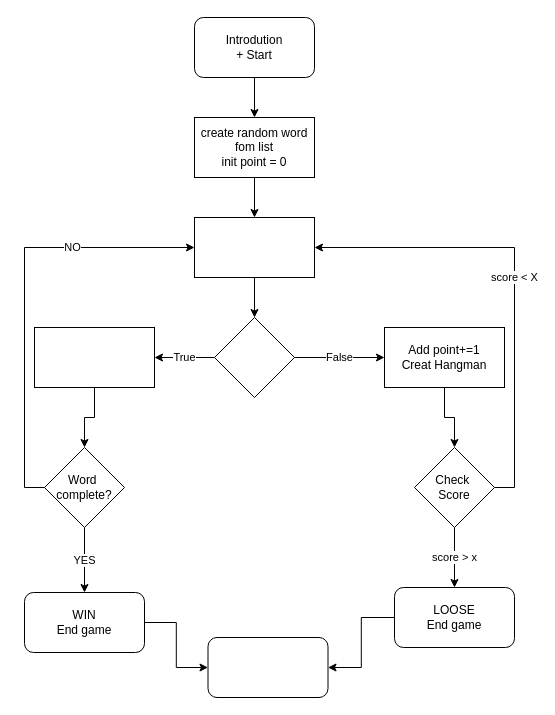
Image size: 555x715. Some labels were removed from this diagram. Here are the shapes that lost their labels. From the top down, the box of each, then its label:
(194, 216, 314, 278): Ask for a Letter
(34, 326, 154, 388): Show the Letter
(214, 316, 294, 398): INPUT Letter
(207, 636, 328, 698): END
